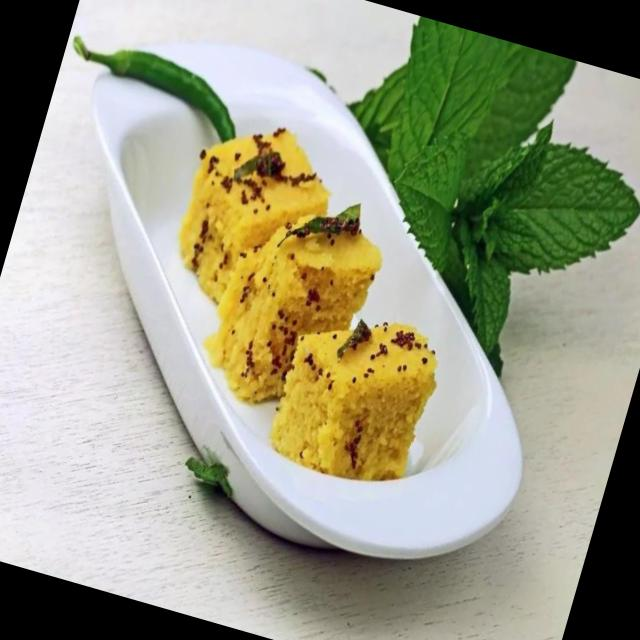dhokla: (126, 109, 484, 490)
